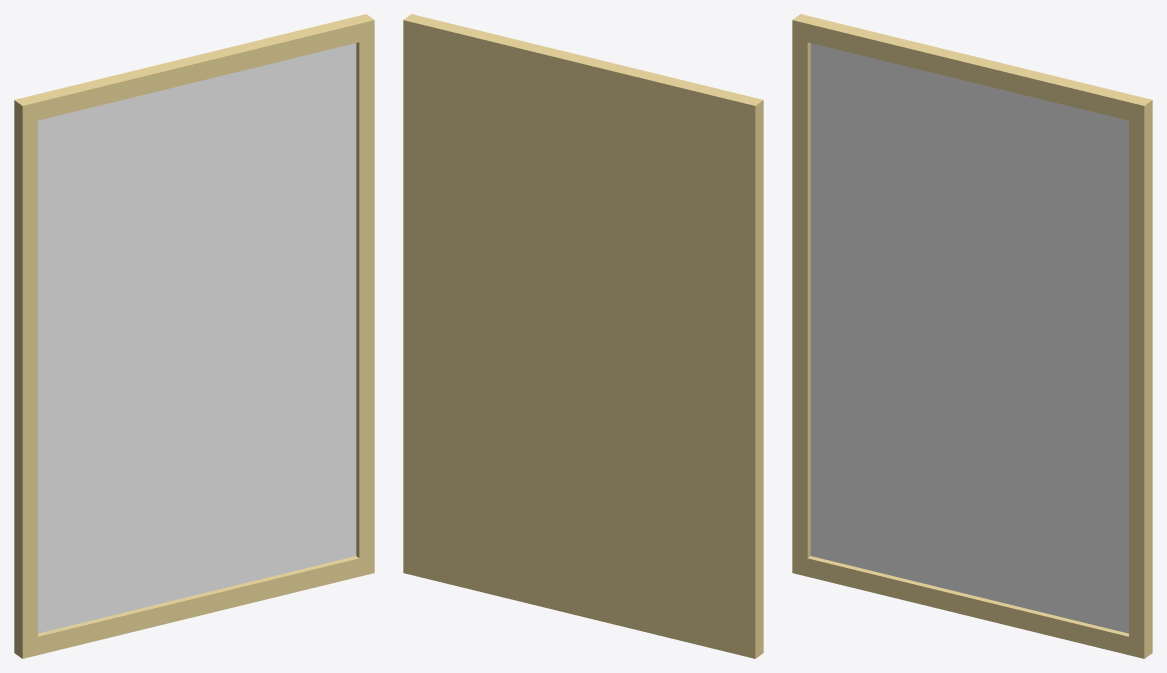
Rendered from MirrorModel_01.fbx.
3 renders of one model, left to right at view 1: azimuth 30°, elevation 25°; view 2: azimuth 150°, elevation 25°; view 3: azimuth 330°, elevation 25°, orthographic.
Parts seen in each view (by area): view 1: pCube1; view 2: pCube1; view 3: pCube1.
Boxes of the visible parts, x1=… form: pCube1: x1=14, y1=14, x2=374, y2=658; pCube1: x1=403, y1=14, x2=763, y2=658; pCube1: x1=792, y1=14, x2=1152, y2=658.
Bounding box in the file's own units: 4 × 6 × 0.1634.
